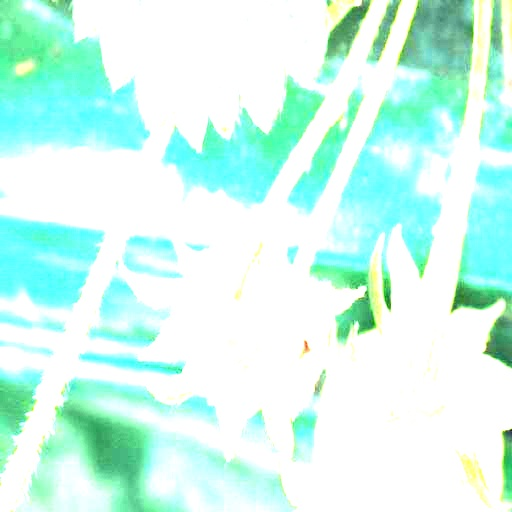Gray Mold: (215, 251, 367, 426)
